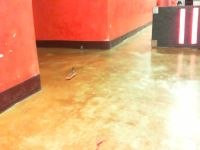switch: (191, 7, 200, 44), (178, 7, 186, 45)
